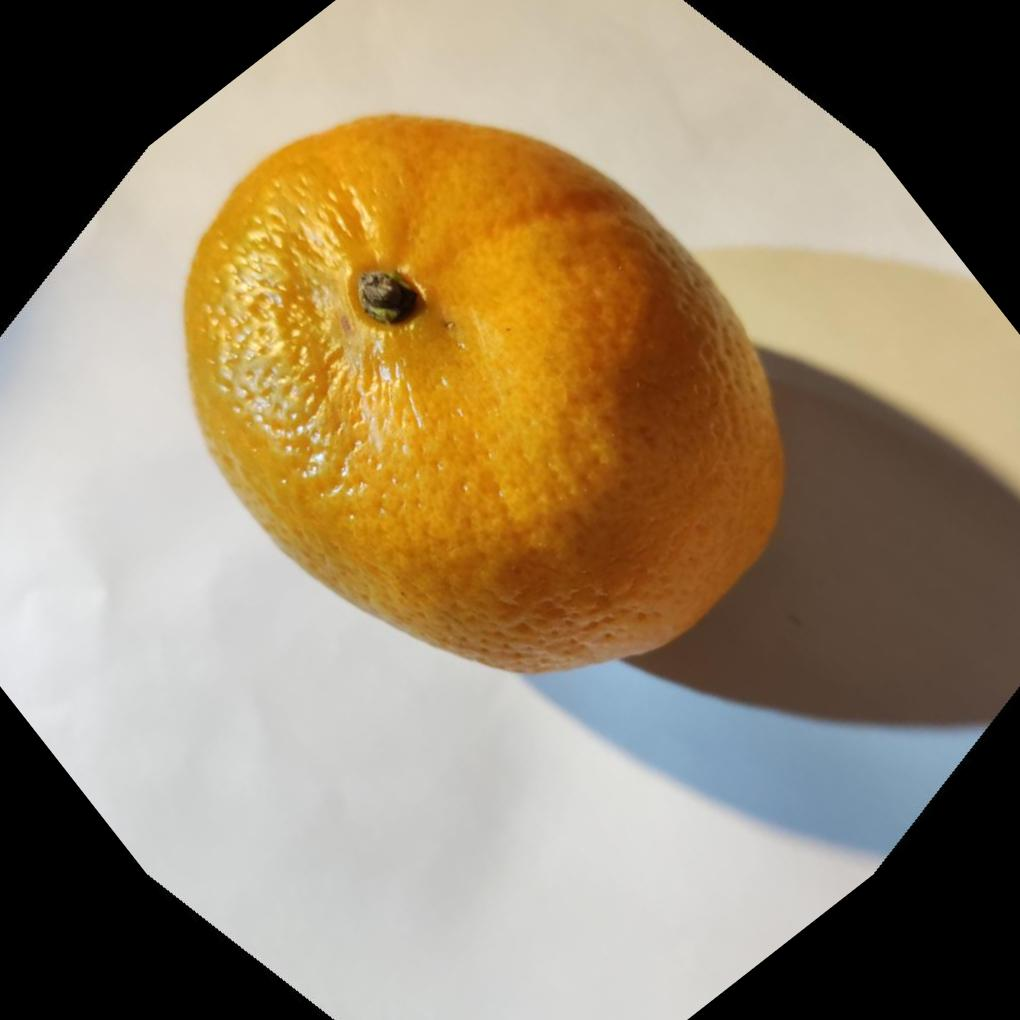FreshGuava: (180, 112, 792, 680)
